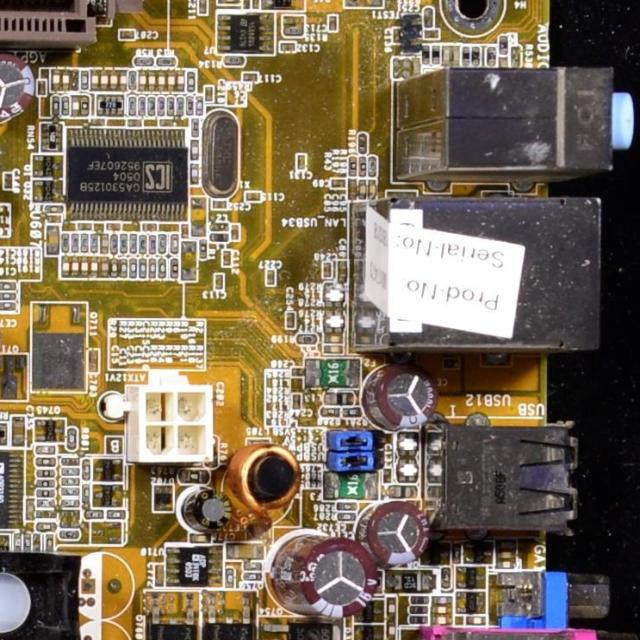IC: (0, 448, 25, 530), (34, 154, 62, 177)
capacitor: (11, 416, 24, 448), (154, 563, 164, 588), (118, 28, 136, 40), (167, 68, 176, 92), (266, 268, 277, 287), (338, 259, 346, 285), (14, 532, 24, 552), (51, 67, 59, 92), (60, 255, 68, 279), (246, 190, 262, 202), (139, 69, 147, 92), (90, 258, 99, 278), (322, 261, 332, 279), (36, 522, 56, 531), (61, 69, 69, 91), (296, 154, 307, 170), (100, 232, 108, 254), (215, 271, 224, 290), (109, 70, 118, 89), (158, 69, 166, 90), (332, 178, 346, 190), (370, 179, 378, 200), (204, 85, 213, 103), (80, 258, 88, 278), (242, 70, 258, 80), (349, 178, 357, 198), (196, 0, 207, 14), (280, 42, 294, 53), (91, 68, 98, 90), (101, 256, 109, 275), (359, 181, 367, 200), (71, 256, 78, 277), (222, 250, 230, 268), (38, 79, 46, 97), (119, 70, 126, 90), (150, 70, 156, 91), (178, 70, 184, 91), (213, 201, 227, 210), (101, 70, 106, 90), (286, 312, 293, 326)
resistor: (67, 427, 79, 450), (342, 405, 361, 419), (296, 334, 319, 344), (154, 56, 177, 66), (320, 407, 340, 418), (109, 233, 119, 255), (158, 256, 167, 280), (223, 56, 244, 66), (34, 490, 57, 499), (132, 56, 152, 66), (60, 232, 70, 252), (35, 468, 57, 477), (129, 94, 138, 116), (369, 157, 378, 179), (170, 233, 179, 255), (82, 484, 91, 505), (128, 69, 136, 92), (0, 300, 16, 311), (358, 132, 366, 154), (359, 156, 367, 178), (130, 257, 138, 278), (149, 258, 157, 279), (0, 290, 14, 302), (349, 156, 357, 177), (81, 232, 89, 253), (167, 96, 175, 116), (187, 96, 195, 116), (90, 233, 98, 253), (149, 234, 157, 254), (171, 258, 178, 280), (35, 481, 57, 488), (187, 70, 194, 92), (177, 95, 185, 114), (148, 97, 156, 116), (157, 97, 165, 116), (84, 457, 90, 482), (140, 234, 148, 252), (140, 258, 147, 278), (72, 232, 79, 252), (196, 94, 202, 117), (159, 232, 165, 255), (138, 94, 144, 116), (130, 234, 136, 256), (0, 282, 16, 290), (120, 234, 126, 255), (111, 258, 117, 278), (120, 258, 126, 277)
transistor: (64, 129, 190, 213), (92, 455, 124, 483), (33, 417, 66, 442), (94, 484, 124, 510), (31, 182, 64, 202)
